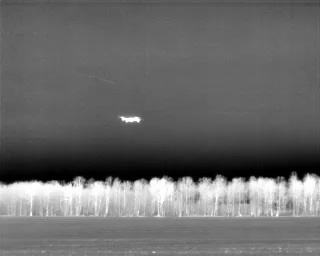DRONE: (116, 110, 146, 128)
